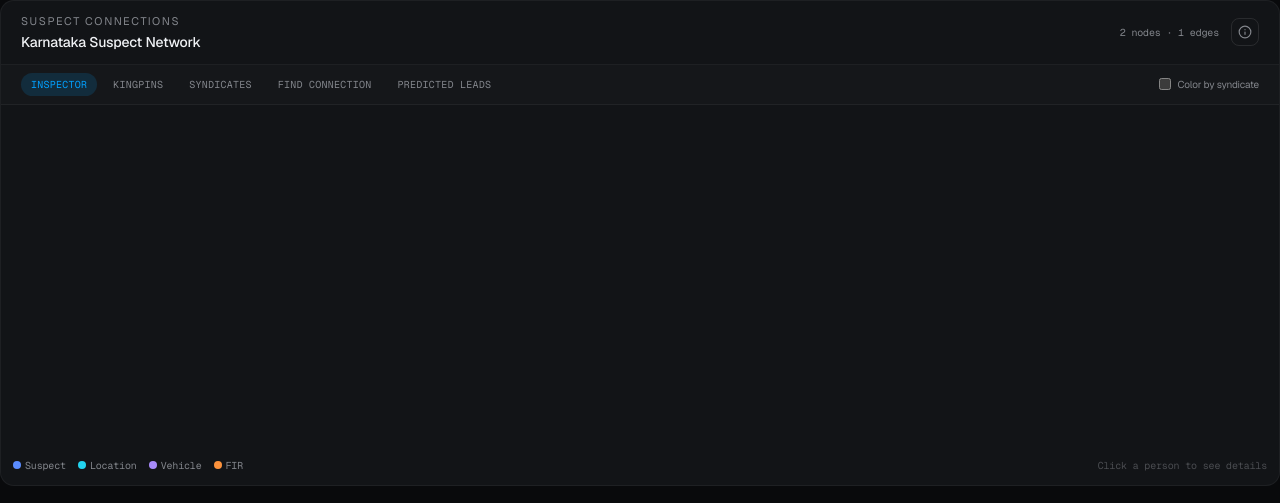
Test: LinkGraph production interactions › opens Find Connection with selectable people
The image size is (1280, 503).
What coordinates should you click on to do the following:
click the button "Find Connection"
I would click on:
 (325, 84)
Its box is x1=268 y1=72 x2=382 y2=96.
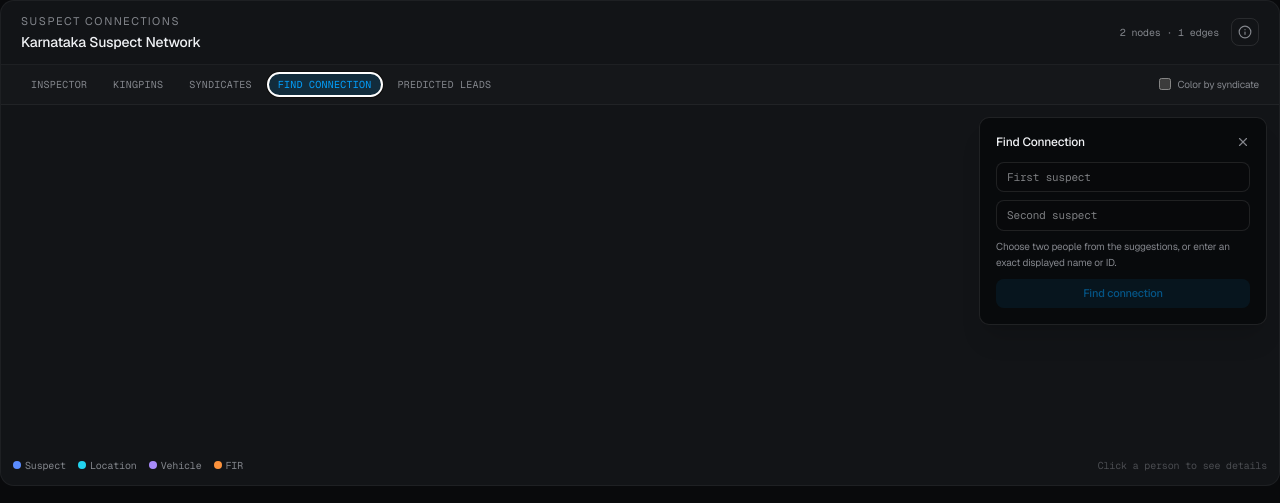
Check: the field with placeholder "First suspect" is shown, box x1=996 y1=162 x2=1250 y2=192
Check: the field with placeholder "Second suspect" is shown, box x1=996 y1=200 x2=1250 y2=230
